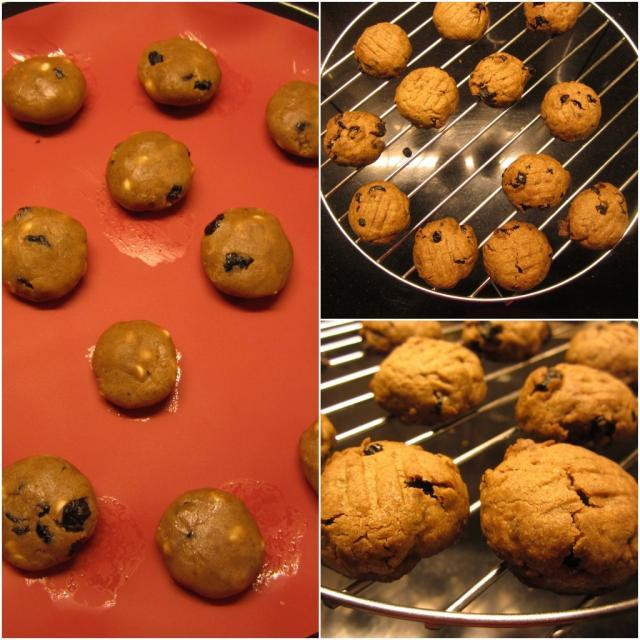Cookie: (476, 437, 640, 597), (317, 440, 472, 585), (154, 491, 264, 603), (0, 453, 100, 572), (516, 361, 640, 451), (371, 335, 488, 425), (0, 203, 87, 306), (201, 206, 291, 302), (90, 321, 179, 413), (0, 54, 89, 128), (136, 36, 218, 110), (480, 217, 554, 291), (410, 216, 475, 294), (560, 180, 628, 249), (566, 322, 640, 385), (390, 66, 461, 129), (500, 153, 572, 213), (348, 180, 411, 244), (266, 80, 316, 160), (540, 80, 600, 141), (351, 20, 413, 79), (327, 108, 390, 163), (467, 53, 532, 106), (464, 320, 548, 359), (359, 319, 439, 354), (431, 0, 489, 45), (523, 0, 582, 37), (300, 424, 320, 488)
